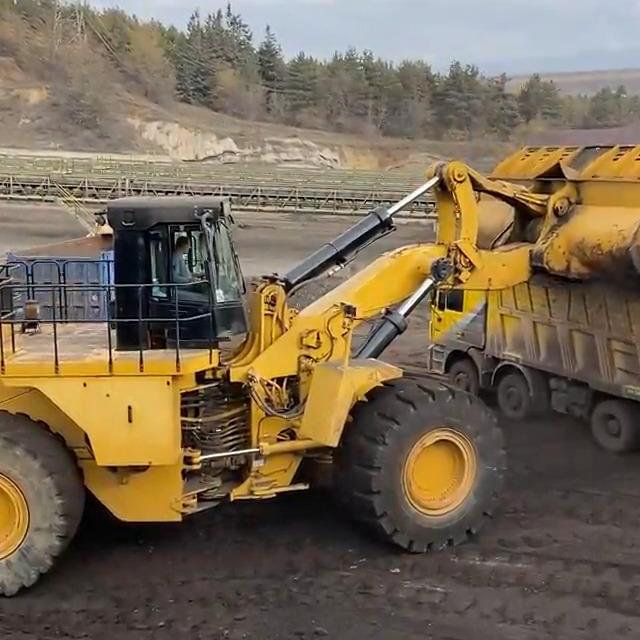NO-Hardhat: (174, 235, 188, 246)
NO-Mask: (181, 247, 190, 254)
NO-Safety Vest: (172, 254, 190, 278)
Person: (170, 234, 206, 290)
dump truck: (427, 232, 640, 476), (4, 205, 219, 330)
wheel loader: (0, 119, 640, 602)
